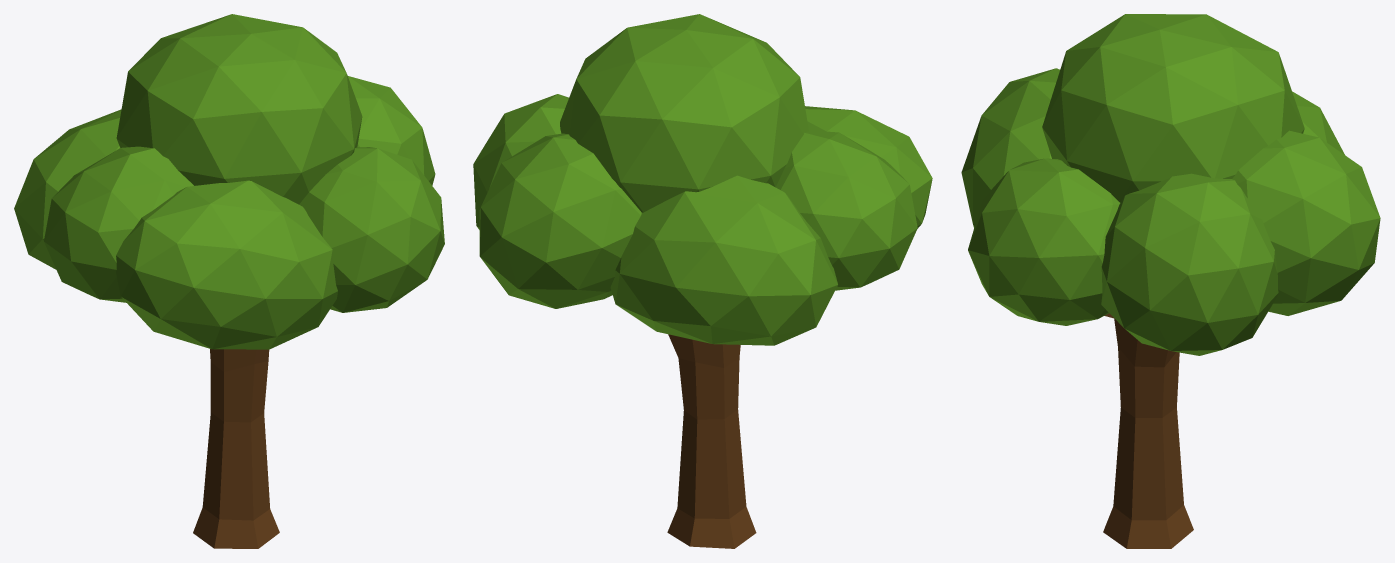
File: oak_tree.glb
The picture shows the model from 3 angles, left to right: view 1: azimuth 30°, elevation 25°; view 2: azimuth 150°, elevation 25°; view 3: azimuth 270°, elevation 25°; orthographic projection. The views are drawn at different scales.
Parts seen in each view (by area): view 1: Oak Tree; view 2: Oak Tree; view 3: Oak Tree.
Boxes of the visible parts, bbox=[...] form: Oak Tree: bbox=[14, 14, 444, 548]; Oak Tree: bbox=[473, 14, 932, 548]; Oak Tree: bbox=[961, 14, 1380, 548].
Bounding box in the file's own units: 1.77 × 2.14 × 1.59.
